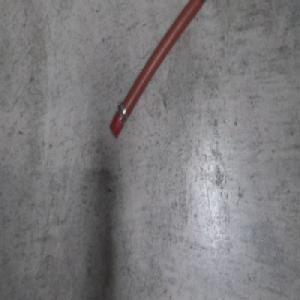Hose: (108, 0, 208, 141)
